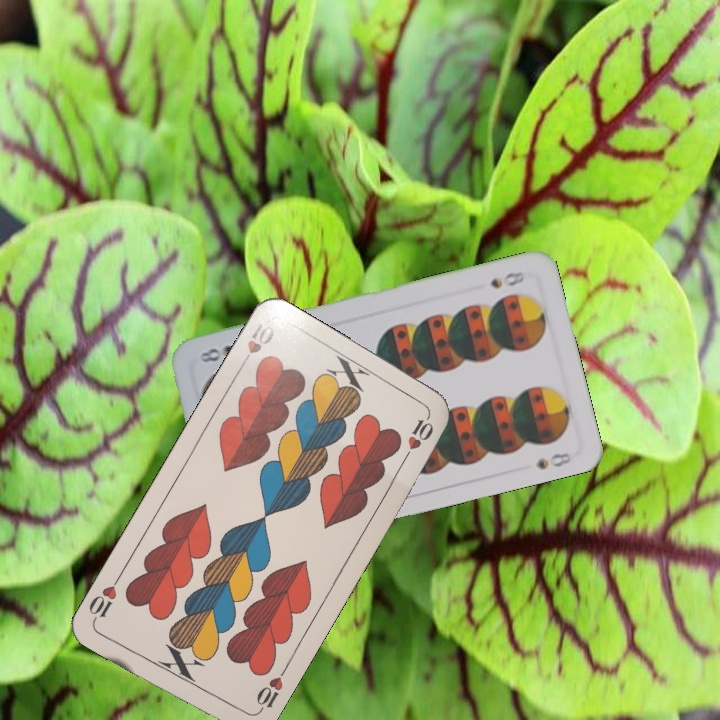H10: (235, 315, 277, 371), (251, 665, 289, 718)
S8: (486, 267, 527, 291)
